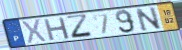7: (93, 13, 110, 35)
9: (115, 9, 136, 35)
H: (43, 16, 72, 42)
N: (134, 6, 163, 33)
X: (21, 18, 48, 45)
Z: (65, 13, 95, 39)
